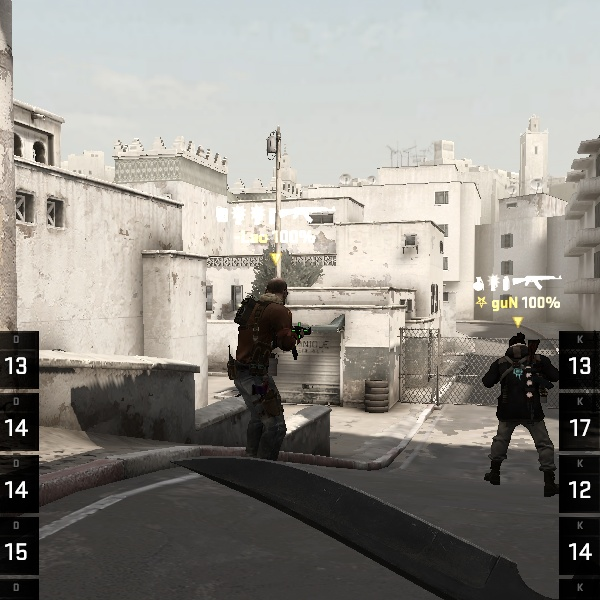t_body: (204, 267, 317, 470), (476, 327, 571, 495)
t_head: (500, 329, 541, 369), (256, 272, 294, 310)
